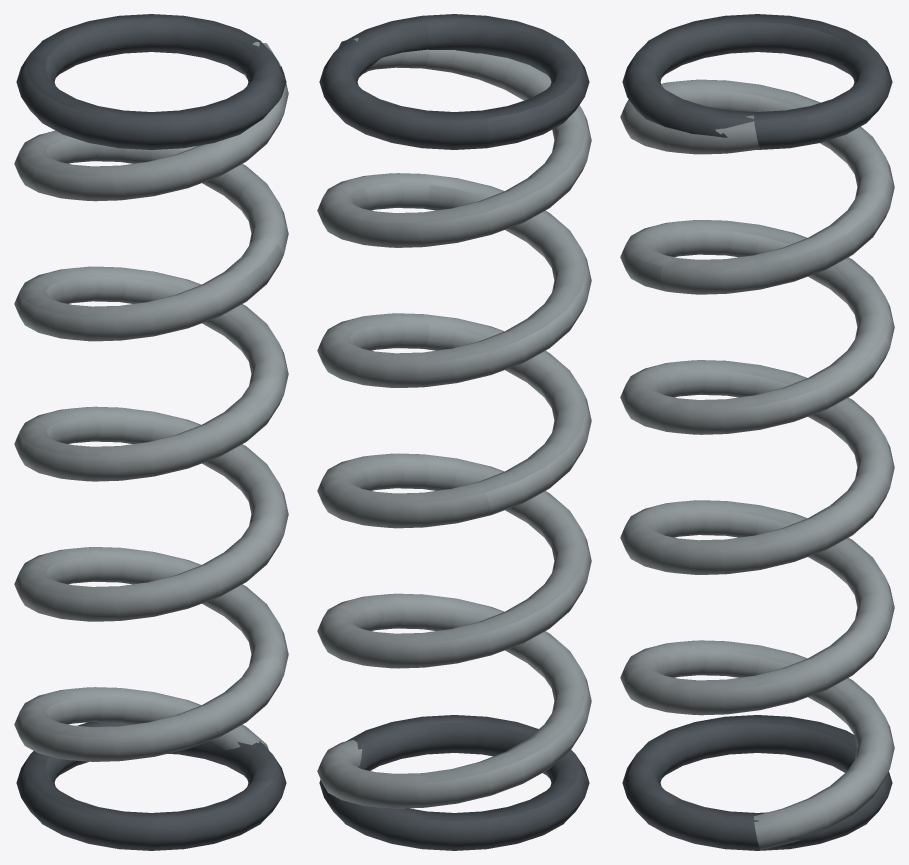
Rendered from accel_spring_lower.fbx.
The picture shows the model from 3 angles, left to right: view 1: azimuth 30°, elevation 25°; view 2: azimuth 150°, elevation 25°; view 3: azimuth 270°, elevation 25°; orthographic projection.
Visible parts, largest first — view 1: SM_accel_spring_lower; view 2: SM_accel_spring_lower; view 3: SM_accel_spring_lower.
Part boxes in pixels (bbox=[...]): SM_accel_spring_lower: bbox=[14, 14, 288, 850]; SM_accel_spring_lower: bbox=[317, 14, 591, 850]; SM_accel_spring_lower: bbox=[620, 14, 894, 850].
Size of the model in its own units: 0.0213 by 0.0628 by 0.0213.
Materials: 2 (2 with a texture image).
